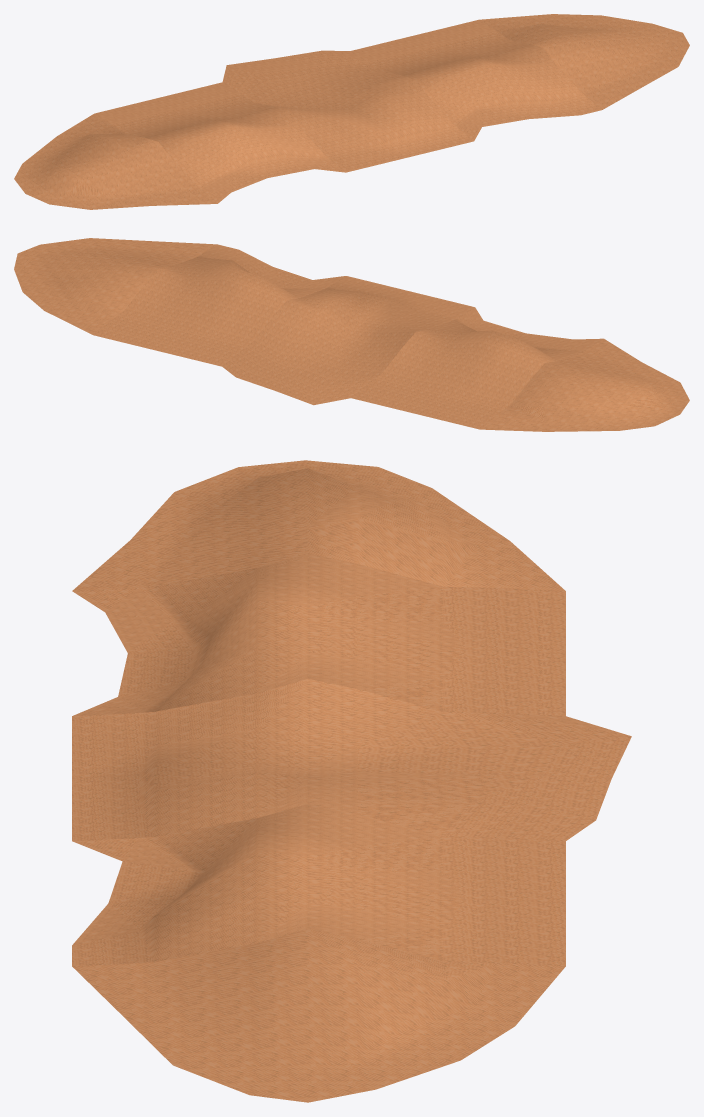
The model's file is Long_Island.FBX.
3 renders of one model, top to bottom at view 1: azimuth 30°, elevation 25°; view 2: azimuth 150°, elevation 25°; view 3: azimuth 270°, elevation 25°, orthographic. The views are drawn at different scales.
Visible parts, largest first — view 1: Island_Middle_01, Object027, Object026, Plane003, Object028; view 2: Island_Middle_01, Object027, Object026, Plane003, Object028; view 3: Island_Middle_01, Object027, Object026, Object028, Plane003.
Boxes of the visible parts, x1=… form: Island_Middle_01: x1=222, y1=50, x2=473, y2=172; Object027: x1=351, y1=19, x2=601, y2=140; Object026: x1=94, y1=82, x2=345, y2=203; Plane003: x1=14, y1=113, x2=217, y2=209; Object028: x1=479, y1=14, x2=689, y2=109; Island_Middle_01: x1=222, y1=276, x2=474, y2=405; Object027: x1=93, y1=244, x2=345, y2=366; Object026: x1=351, y1=307, x2=603, y2=429; Plane003: x1=480, y1=339, x2=689, y2=431; Object028: x1=14, y1=238, x2=216, y2=334; Island_Middle_01: x1=72, y1=678, x2=631, y2=841; Object027: x1=72, y1=804, x2=565, y2=966; Object026: x1=72, y1=553, x2=565, y2=716; Object028: x1=72, y1=929, x2=565, y2=1102; Plane003: x1=72, y1=460, x2=565, y2=590.
Bounding box in the file's own units: 14843 × 573 × 5468.
